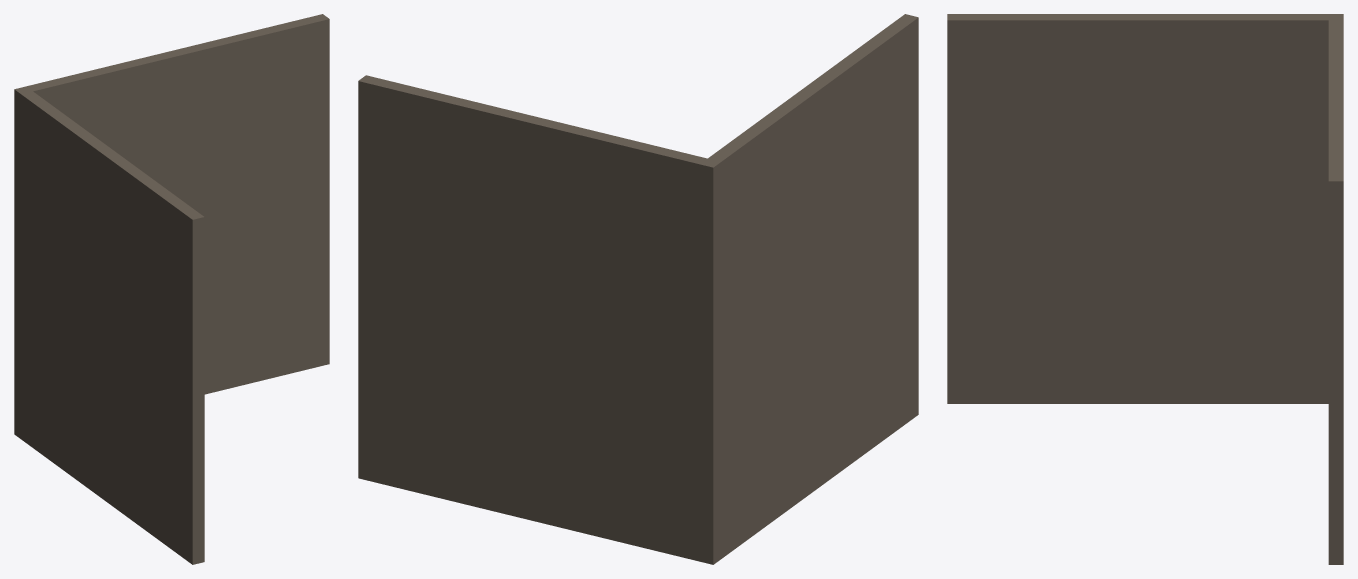
Rendered from ConcaveCorner.fbx.
The picture shows the model from 3 angles, left to right: view 1: azimuth 30°, elevation 25°; view 2: azimuth 150°, elevation 25°; view 3: azimuth 270°, elevation 25°; orthographic projection. The views are drawn at different scales.
Parts seen in each view (by area): view 1: WallConcavecorner; view 2: WallConcavecorner; view 3: WallConcavecorner.
Part boxes in pixels (<box>): WallConcavecorner: <box>14,14,329,564</box>; WallConcavecorner: <box>358,14,918,564</box>; WallConcavecorner: <box>947,14,1343,564</box>.
Size of the model in its own units: 104 by 111 by 104.
